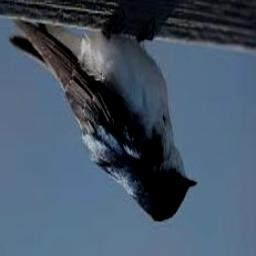Swallow: (9, 18, 197, 222)
